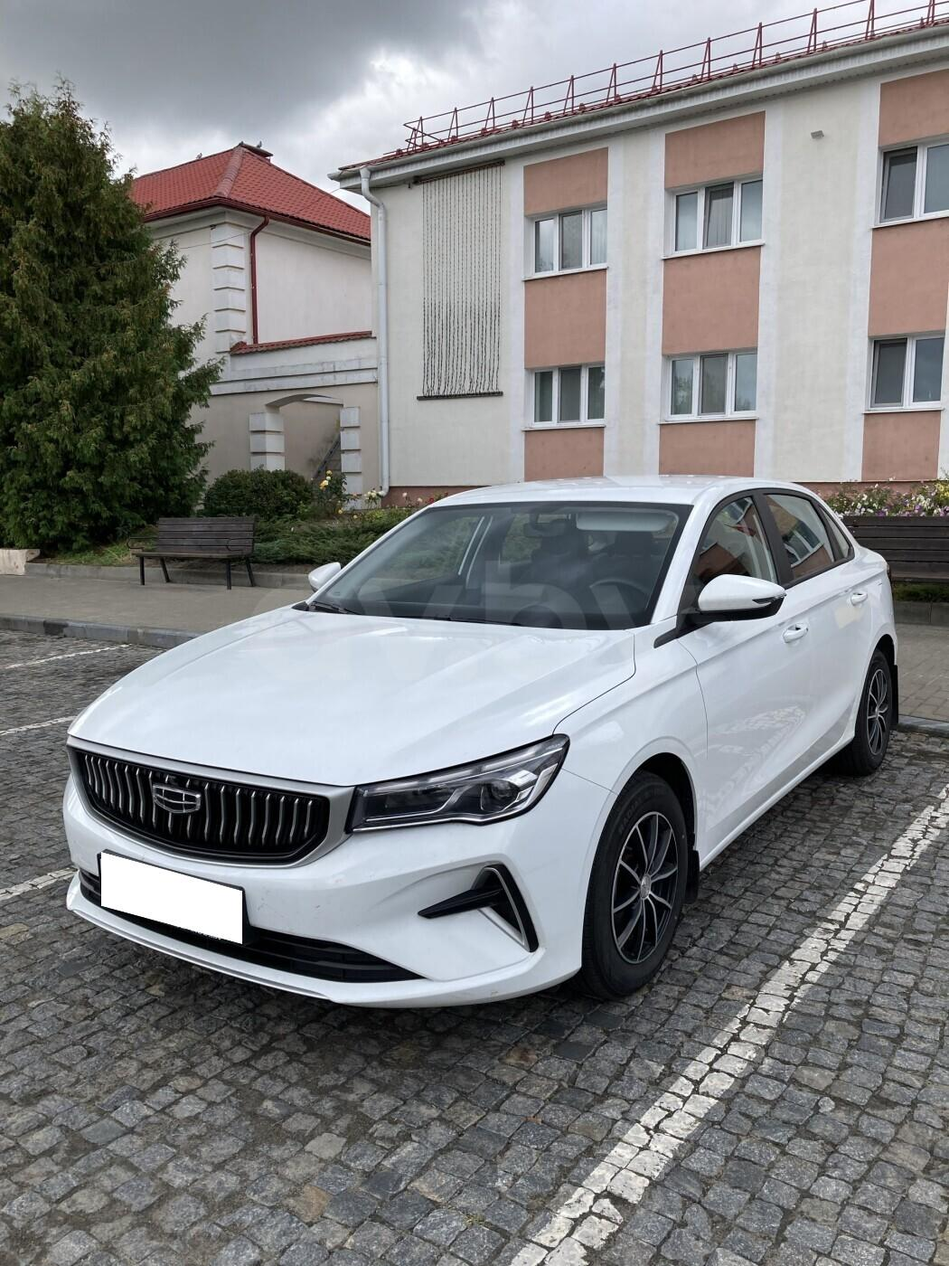Emgrand_2021: (62, 477, 897, 1006)
